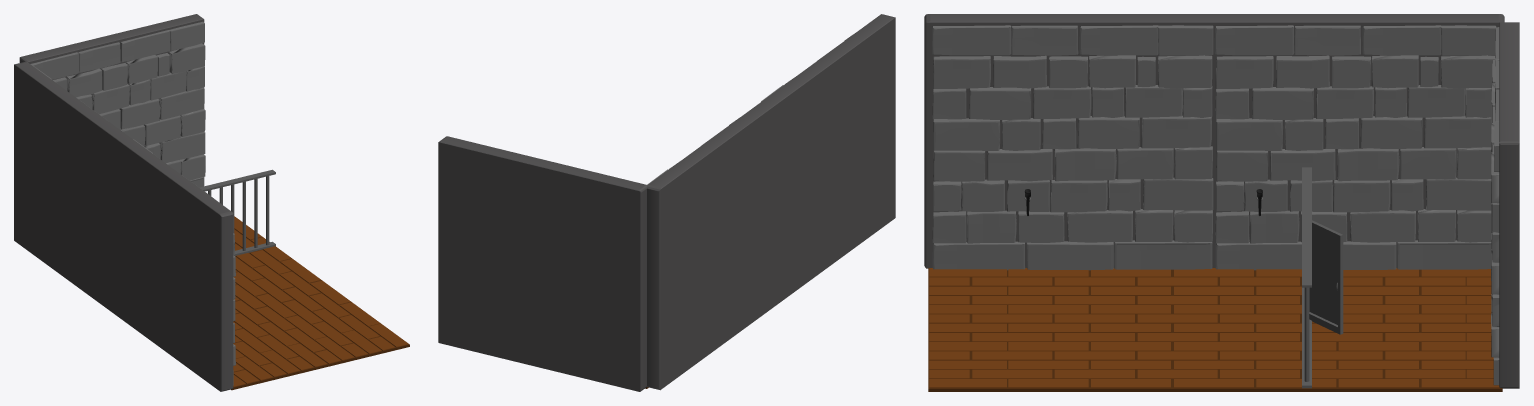
The model's file is M_PorteBarreaux.fbx.
3 views of the same model, side by side, from view 1: azimuth 30°, elevation 25°; view 2: azimuth 150°, elevation 25°; view 3: azimuth 270°, elevation 25° (orthographic). The views are drawn at different scales.
Parts seen in each view (by area): view 1: Cube.025, Cube.001, Cube.091, Cube; view 2: Cube.025, Cube.001; view 3: Cube.025, Cube.091, Cube.001, Cube.
Boxes of the visible parts, bbox=[...] form: Cube.025: bbox=[14, 61, 235, 391]; Cube.001: bbox=[19, 14, 205, 187]; Cube.091: bbox=[231, 216, 409, 390]; Cube: bbox=[199, 169, 275, 255]; Cube.025: bbox=[647, 14, 895, 390]; Cube.001: bbox=[438, 136, 647, 391]; Cube.025: bbox=[924, 14, 1504, 270]; Cube.091: bbox=[928, 268, 1502, 391]; Cube.001: bbox=[1491, 22, 1519, 388]; Cube: bbox=[1302, 167, 1343, 388].
Bounding box in the file's own units: 2132 × 1914 × 4145.
